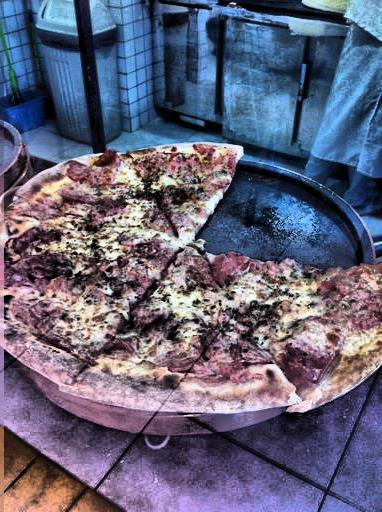pizza: (3, 145, 382, 419)
